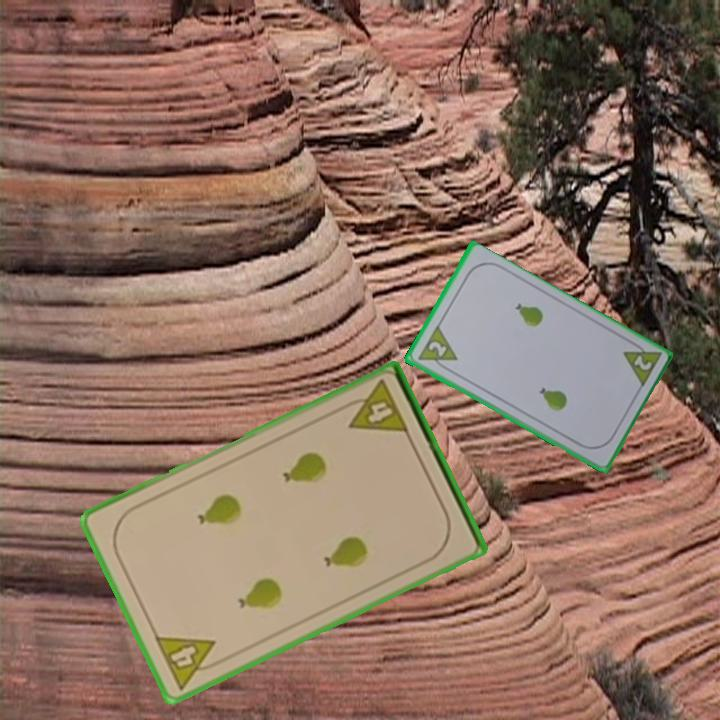2p: (619, 336, 664, 391), (424, 338, 449, 360)
4p: (150, 632, 227, 693), (338, 376, 412, 437)
